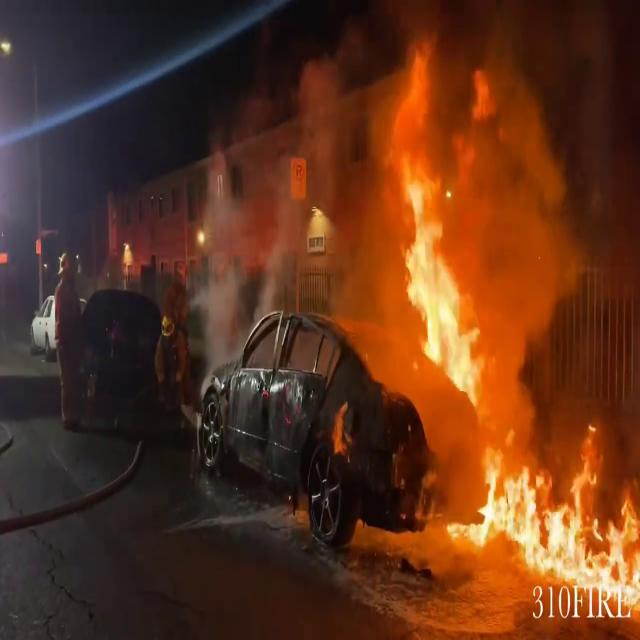Fire: (450, 423, 640, 631), (393, 136, 480, 403)
Smoke: (274, 0, 608, 403)
